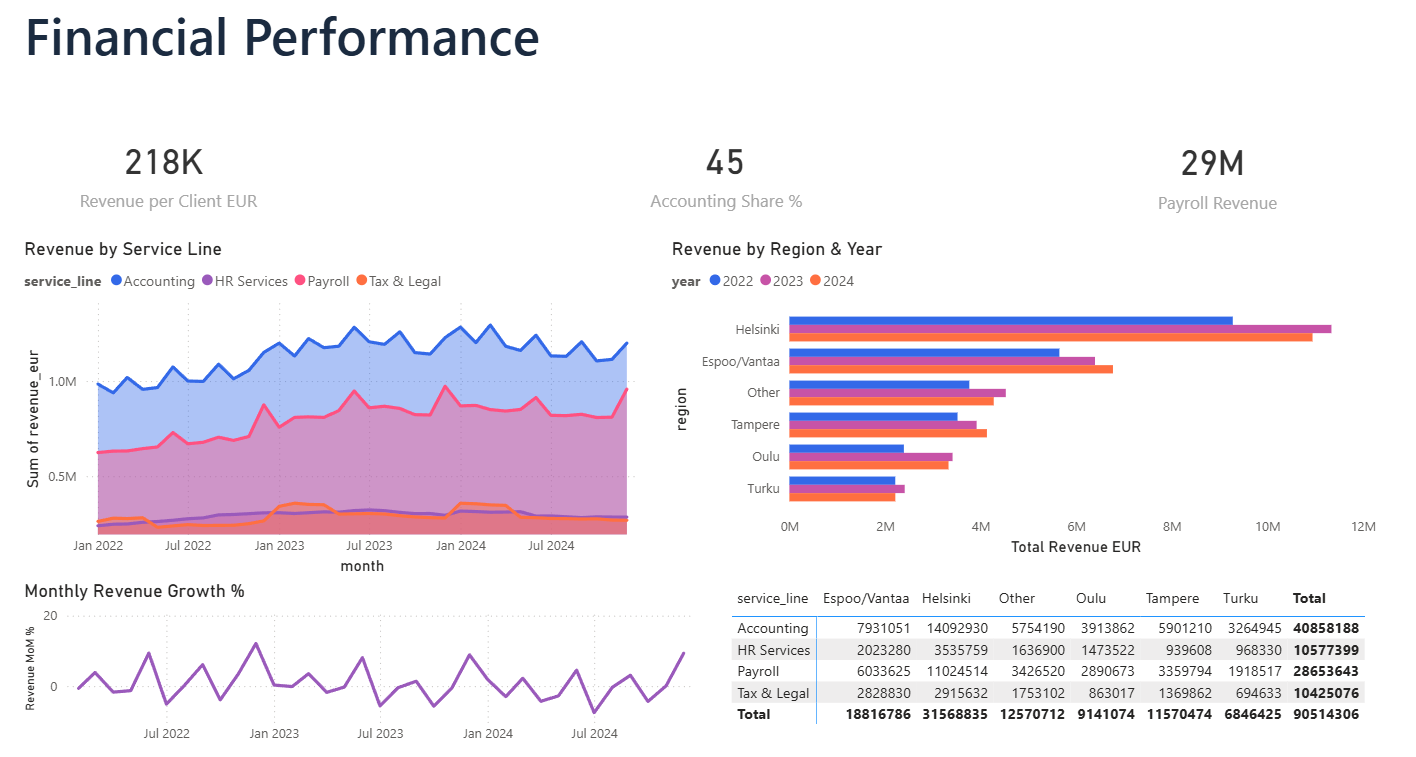

The dashboard page shown, as its layout file describes it:
{"tool":"powerbi","page":{"name":"Financial Performance","canvas":[1280,720],"ordinal":1},"visuals":[{"type":"advanceCardE03760C5AB684758B56AA29F9E6C257B","fields":{"mainMeasure":["_Measures.Revenue per Client EUR"]},"box":[9.8,93.4,280.3,149.2],"z":0},{"type":"advanceCardE03760C5AB684758B56AA29F9E6C257B","fields":{"mainMeasure":["_Measures.Accounting Share %"]},"box":[498.6,93.4,341.7,149.2],"z":1000},{"type":"advanceCardE03760C5AB684758B56AA29F9E6C257B","fields":{"mainMeasure":["_Measures.Payroll Revenue"]},"box":[976.3,93.4,304,152],"z":2000},{"type":"textbox","box":[9.8,0,1009.7,93.4],"z":3000},{"type":"areaChart","title":"Revenue by Service Line","fields":{"Category":["monthly_revenue.month"],"Y":["Sum(monthly_revenue.revenue_eur)"],"Series":["monthly_revenue.service_line"]},"box":[9.8,227.3,594.1,319.4],"z":4000},{"type":"clusteredBarChart","title":"Revenue by Region & Year","fields":{"Category":["monthly_revenue.region"],"Y":["_Measures.Total Revenue EUR"],"Series":["monthly_revenue.year"]},"box":[613.6,227.3,666.6,301.2],"z":5000},{"type":"pivotTable","fields":{"Rows":["monthly_revenue.service_line"],"Columns":["monthly_revenue.region"],"Values":["_Measures.Total Revenue EUR"]},"box":[669.4,546.7,610.9,161.8],"z":6000},{"type":"lineChart","title":"Monthly Revenue Growth %","fields":{"Y":["_Measures.Revenue MoM %"],"Category":["monthly_revenue.month"]},"box":[9.8,546.7,647.1,161.8],"z":7000}]}

Visuals, with their boxes on the page's 1280x720 design canvas (x1, y1, x2, y2). These are canvas units, not pixel positions in the 1416x757 screenshot, which may show the page scaled, cropped or inside an application window:
advanceCardE03760C5AB684758B56AA29F9E6C257B - _Measures.Revenue per Client EUR: (x1=10, y1=93, x2=290, y2=243)
advanceCardE03760C5AB684758B56AA29F9E6C257B - _Measures.Accounting Share %: (x1=499, y1=93, x2=840, y2=243)
advanceCardE03760C5AB684758B56AA29F9E6C257B - _Measures.Payroll Revenue: (x1=976, y1=93, x2=1280, y2=245)
textbox: (x1=10, y1=0, x2=1020, y2=93)
"Revenue by Service Line" areaChart: (x1=10, y1=227, x2=604, y2=547)
"Revenue by Region & Year" clusteredBarChart: (x1=614, y1=227, x2=1280, y2=528)
pivotTable - monthly_revenue.service_line x monthly_revenue.region: (x1=669, y1=547, x2=1280, y2=708)
"Monthly Revenue Growth %" lineChart: (x1=10, y1=547, x2=657, y2=708)
